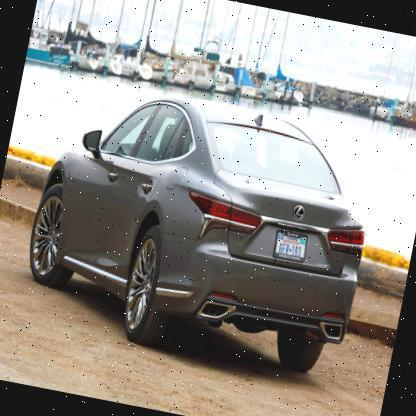License-Plate: (270, 225, 312, 266)
